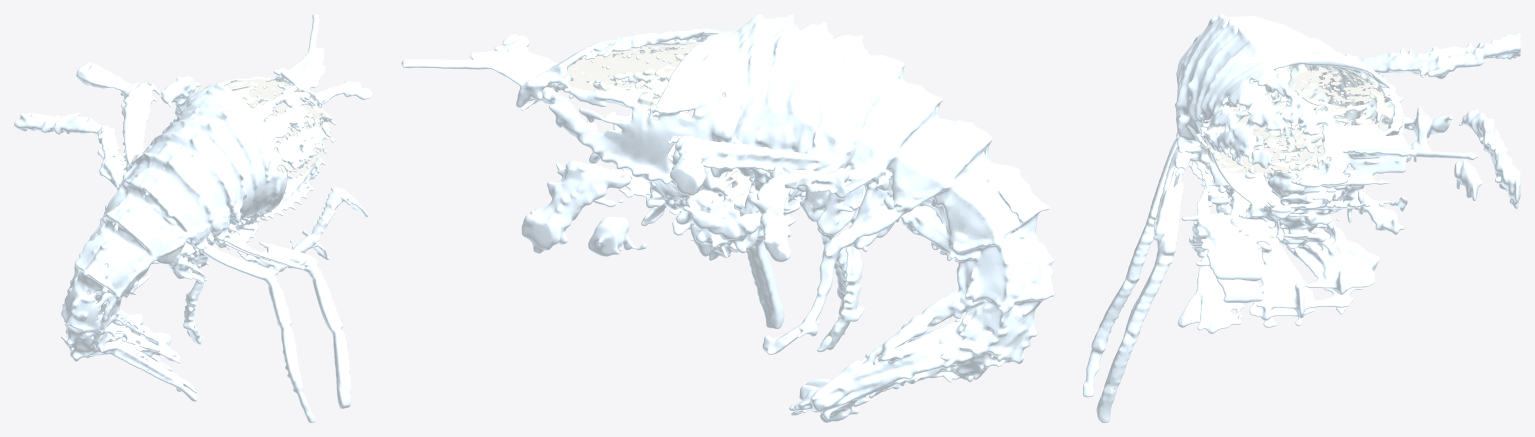
File: amphipod.glb
The picture shows the model from 3 angles, left to right: view 1: azimuth 30°, elevation 25°; view 2: azimuth 150°, elevation 25°; view 3: azimuth 270°, elevation 25°; orthographic projection. The views are drawn at different scales.
Parts seen in each view (by area): view 1: exoskeleton_Poisson_1; view 2: exoskeleton_Poisson_1, broodsac_cecum_Poisson_0; view 3: exoskeleton_Poisson_1.
Part boxes in pixels (bbox=[...]): exoskeleton_Poisson_1: bbox=[14, 14, 372, 422]; exoskeleton_Poisson_1: bbox=[401, 14, 1054, 422]; broodsac_cecum_Poisson_0: bbox=[701, 168, 768, 202]; exoskeleton_Poisson_1: bbox=[1083, 14, 1520, 422].
Size of what is drawn, in the model's own units: 57.68 by 42.49 by 47.79.
